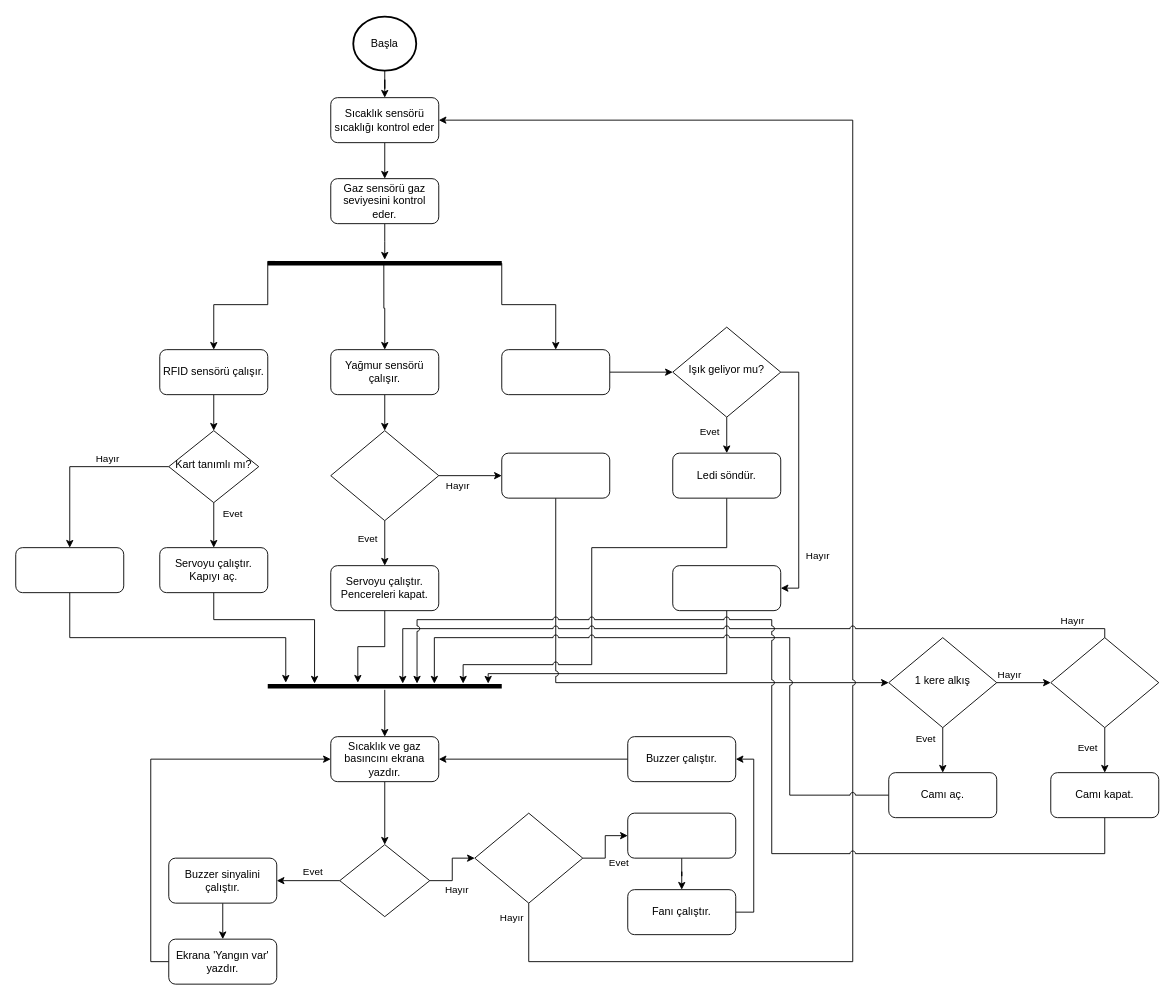
Image size: 1175x1000. Some labels were removed from this diagram. The box of each missing label's shape, as (x1, y1, x2, y2) in pixels:
2 kere alkış: (1050, 637, 1159, 728)
Ekrana 'Gaz kaçağı var' yazdır.: (627, 812, 736, 858)
Gaz basıncı > 300: (474, 812, 583, 903)
Işık sensörü çalışır.: (501, 349, 610, 395)
Ledi çalıştır.: (672, 565, 781, 611)
Servoyu çalıştırma.: (501, 452, 610, 498)
Servoyu çalıştırma. Kapıyı açma.: (15, 547, 124, 593)
Sıcaklık > 40: (339, 844, 430, 917)
Yağmur yağıyor mu?: (330, 430, 439, 521)
